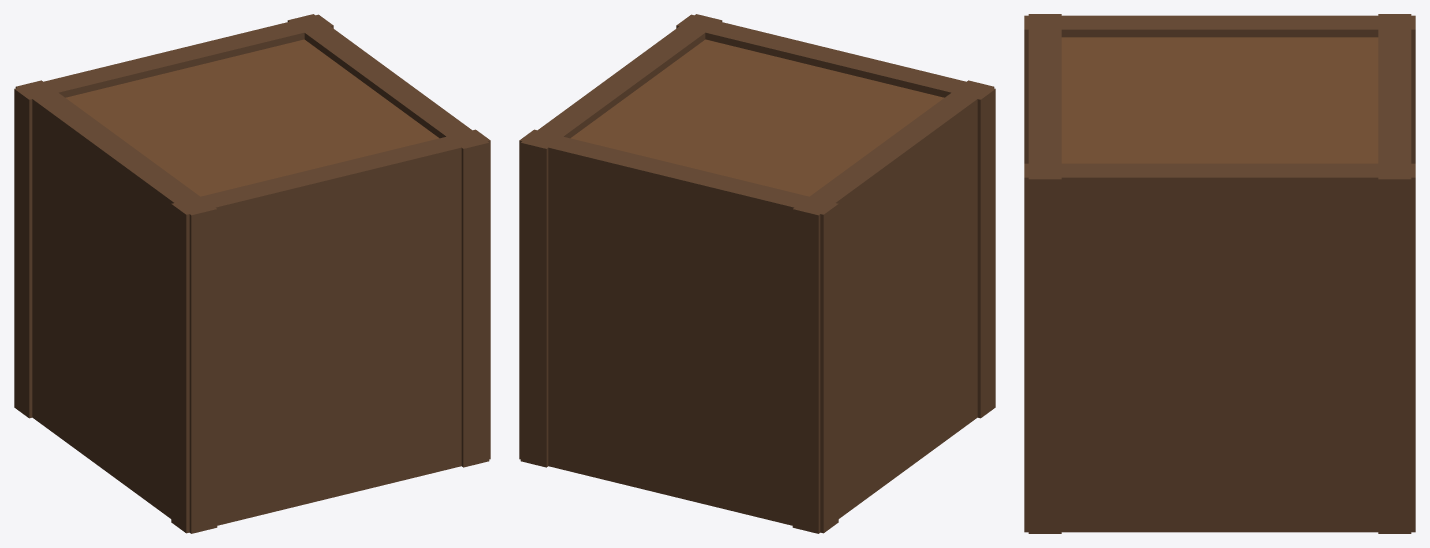
File: crate.glb
3 renders of one model, left to right at view 1: azimuth 30°, elevation 25°; view 2: azimuth 150°, elevation 25°; view 3: azimuth 270°, elevation 25°, orthographic. The views are drawn at different scales.
Parts seen in each view (by area): view 1: crate_Body; view 2: crate_Body; view 3: crate_Body.
Boxes of the visible parts, box(x1,y1,x2,y2) form: crate_Body: box(14, 14, 490, 533); crate_Body: box(519, 14, 995, 533); crate_Body: box(1024, 14, 1415, 533).
Bounding box in the file's own units: 0.94 × 0.94 × 0.94.
